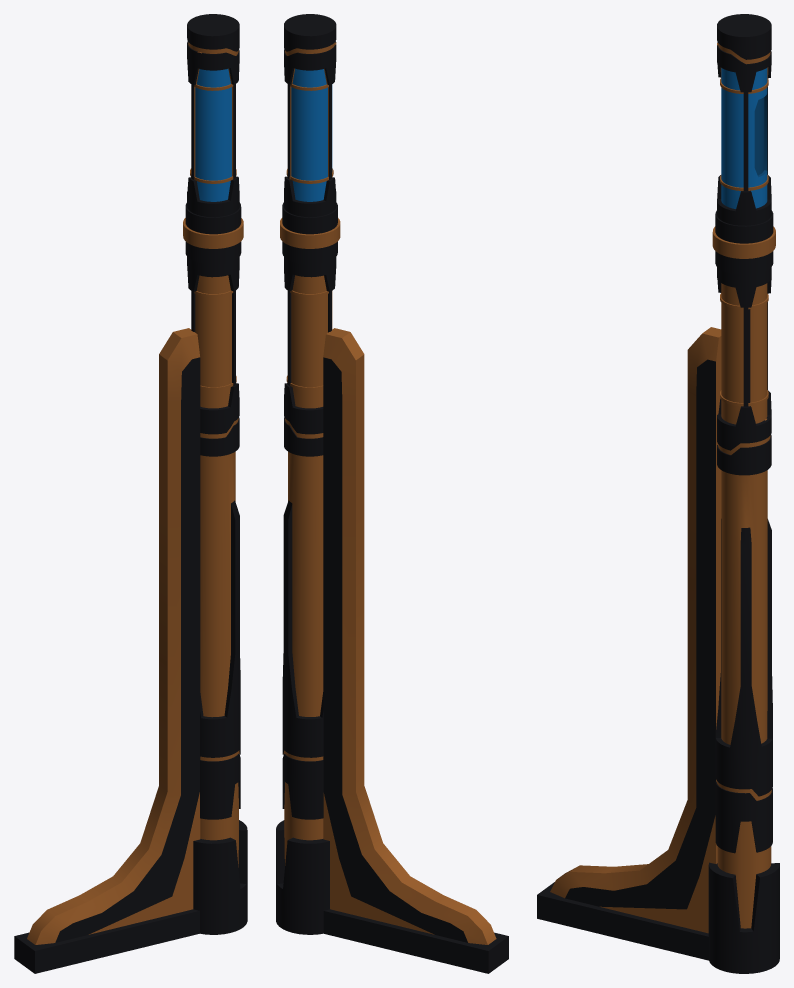
Rendered from 02_Dispensador.fbx.
The picture shows the model from 3 angles, left to right: view 1: azimuth 30°, elevation 25°; view 2: azimuth 150°, elevation 25°; view 3: azimuth 330°, elevation 25°; orthographic projection. The views are drawn at different scales.
Visible parts, largest first — view 1: PilarDispensador01; view 2: PilarDispensador01; view 3: PilarDispensador01.
Part boxes in pixels (x1,y1,x2,y2): PilarDispensador01: (14, 14, 247, 973); PilarDispensador01: (276, 14, 508, 973); PilarDispensador01: (537, 14, 779, 973).
Bounding box in the file's own units: 244 × 958 × 66.36.
